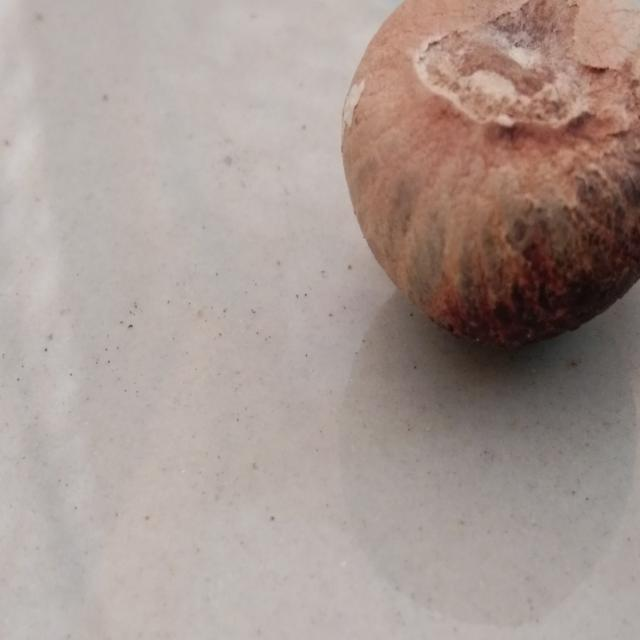karigot: (330, 0, 640, 348)
